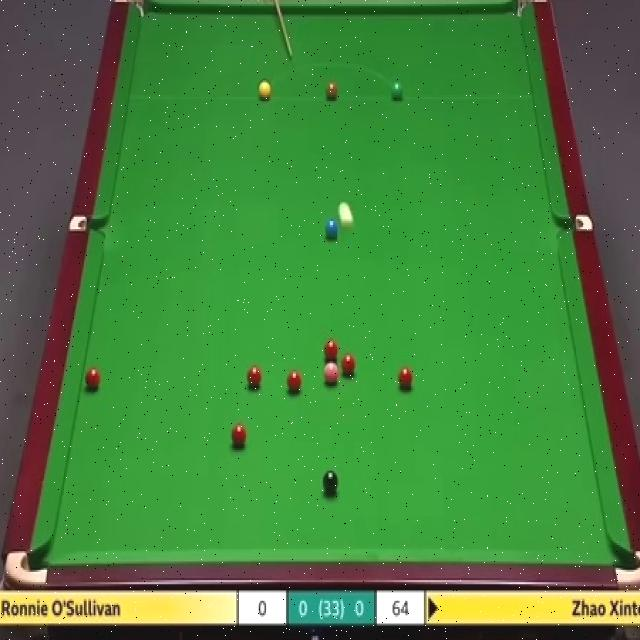black-ball: (322, 471, 339, 492)
blue-ball: (324, 220, 339, 237)
brown-ball: (332, 78, 343, 96)
green-ball: (390, 79, 405, 102)
pink-ball: (323, 362, 338, 384)
red-ball: (397, 367, 413, 392), (231, 423, 247, 448), (248, 364, 261, 390), (86, 368, 100, 391), (287, 369, 302, 390), (342, 352, 356, 374), (323, 339, 338, 358)
white-ball: (338, 201, 354, 228)
yellow-ball: (259, 80, 271, 102)
